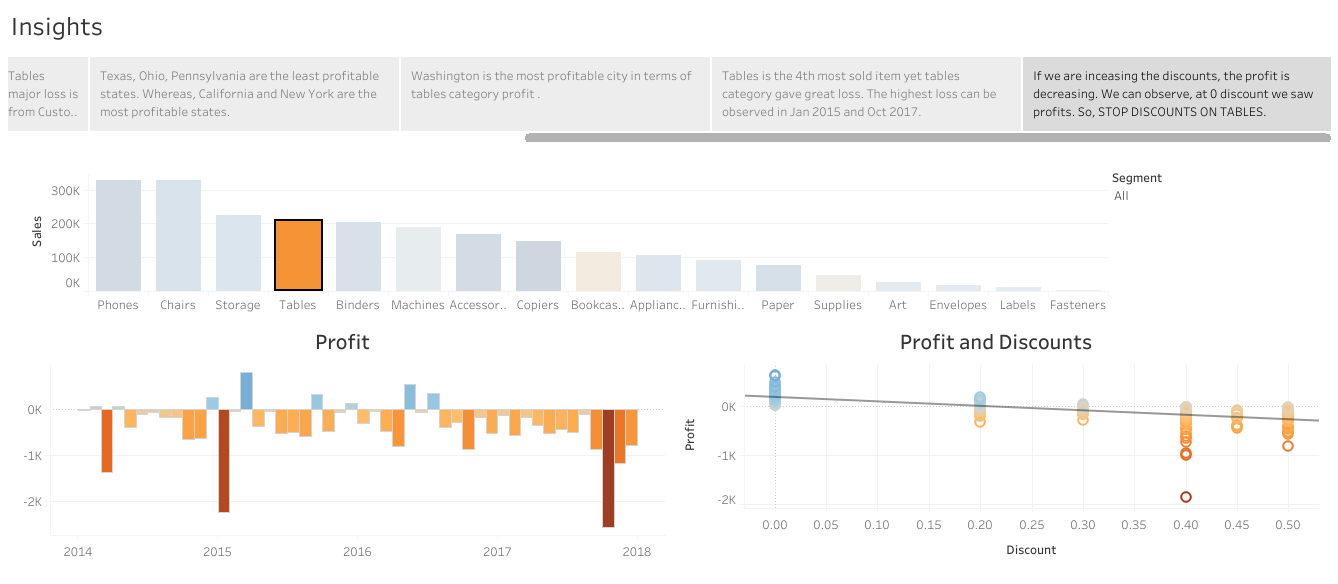

What the dashboard file says about the page in this screenshot:
{"tool":"tableau","page":{"name":"Tables1","canvas":[1000,1000],"units":"permille","ordinal":2},"visuals":[{"type":"worksheet","title":"SalesProfitMix","mark":"Automatic","rows":["Sales"],"cols":["Sub-Category"],"box":[7,12.7,986.1,381.3]},{"type":"filter","title":"ProfitDiscounts","param":"[federated.1duf3tj0375j501eab0np1ncm6t6].[none:Segment:nk]","box":[831.5,38,139,82.3]},{"type":"worksheet","title":"TotalProfitBar","mark":"Bar","rows":["Profit"],"cols":["Order Date"],"box":[7,394,492.6,593.4]},{"type":"worksheet","title":"ProfitDiscounts","mark":"Automatic","rows":["Profit"],"cols":["Discount"],"box":[499.6,394,493.5,593.4]}]}

Visuals, with their boxes on the dashboard's canvas, which has no fixed pixel size, in thousandths of its width and height (x1, y1, x2, y2). These are canvas units, not pixel positions in the 1338x584 screenshot, which may show the page scaled, cropped or inside an application window:
"SalesProfitMix" worksheet: rect(7, 13, 993, 394)
"ProfitDiscounts" filter: rect(832, 38, 970, 120)
"TotalProfitBar" worksheet (Bar marks): rect(7, 394, 500, 987)
"ProfitDiscounts" worksheet: rect(500, 394, 993, 987)
